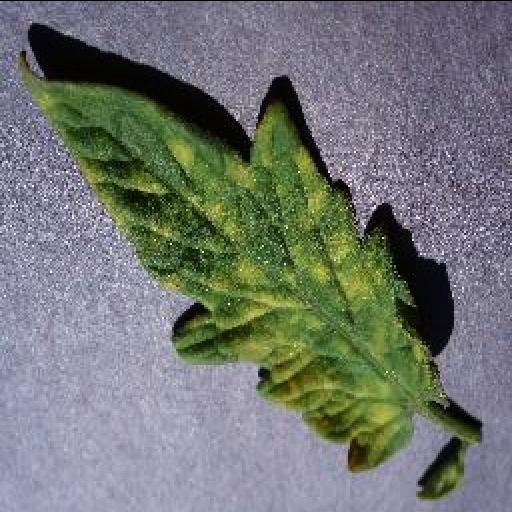disease_tomato: (18, 50, 452, 468)
